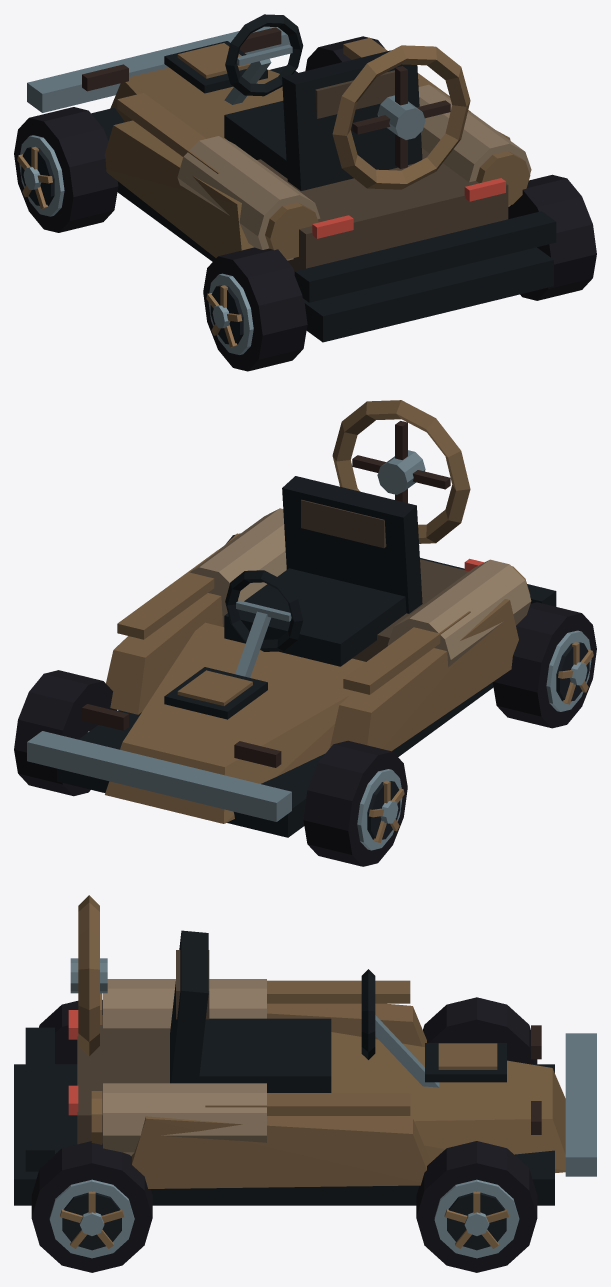
Rendered from kart.glb.
3 renders of one model, top to bottom at view 1: azimuth 30°, elevation 25°; view 2: azimuth 150°, elevation 25°; view 3: azimuth 270°, elevation 25°, orthographic.
Parts seen in each view (by area): view 1: chassis, wheel-rear-left, wheel-front-left, wheel-rear-right, wheel-front-right; view 2: chassis, wheel-front-left, wheel-rear-left, wheel-front-right; view 3: chassis, wheel-front-right, wheel-rear-right, wheel-front-left, wheel-rear-left.
Part boxes in pixels (x1=…): chassis: x1=27, y1=14, x2=556, y2=342; wheel-rear-left: x1=203, y1=247, x2=307, y2=371; wheel-front-left: x1=14, y1=107, x2=118, y2=232; wheel-rear-right: x1=508, y1=174, x2=596, y2=300; wheel-front-right: x1=305, y1=36, x2=384, y2=70; chassis: x1=27, y1=400, x2=556, y2=837; wheel-front-left: x1=303, y1=740, x2=407, y2=866; wheel-rear-left: x1=492, y1=602, x2=596, y2=728; wheel-front-right: x1=14, y1=670, x2=117, y2=796; chassis: x1=14, y1=895, x2=596, y2=1205; wheel-front-right: x1=416, y1=1141, x2=537, y2=1272; wheel-rear-right: x1=31, y1=1141, x2=152, y2=1272; wheel-front-left: x1=423, y1=997, x2=537, y2=1064; wheel-rear-left: x1=39, y1=1000, x2=102, y2=1064.
Size of the model in its own units: 2.18 by 1.63 by 2.99.
